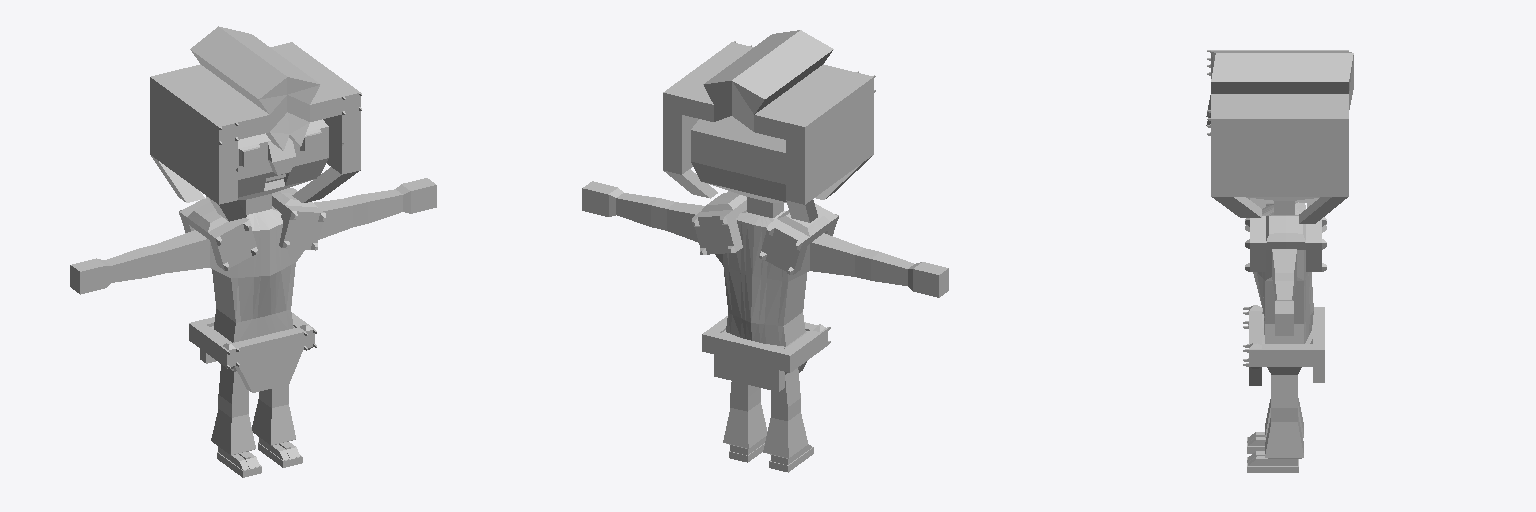
Rendered from EnemyWwep.obj.
The picture shows the model from 3 angles: view 1: azimuth 30°, elevation 25°; view 2: azimuth 150°, elevation 25°; view 3: azimuth 270°, elevation 25°; orthographic projection.
Parts seen in each view (by area): view 1: Enemy_Cube, Helmet_Cube.002, LoinArmor_Cube.005, Shoulder_pads_Cube.004, Eyes_Cube.009; view 2: Enemy_Cube, Helmet_Cube.002, Shoulder_pads_Cube.004, LoinArmor_Cube.005; view 3: Helmet_Cube.002, Enemy_Cube, Shoulder_pads_Cube.004, LoinArmor_Cube.005.
Part boxes in pixels (left/top/right/bottom): Enemy_Cube: left=70, top=119, right=436, bottom=470; Helmet_Cube.002: left=150, top=26, right=361, bottom=221; LoinArmor_Cube.005: left=189, top=313, right=316, bottom=392; Shoulder_pads_Cube.004: left=179, top=188, right=325, bottom=270; Eyes_Cube.009: left=242, top=132, right=321, bottom=166; Enemy_Cube: left=582, top=116, right=948, bottom=464; Helmet_Cube.002: left=663, top=30, right=875, bottom=222; Shoulder_pads_Cube.004: left=692, top=191, right=838, bottom=274; LoinArmor_Cube.005: left=702, top=316, right=830, bottom=391; Helmet_Cube.002: left=1206, top=50, right=1353, bottom=223; Enemy_Cube: left=1247, top=197, right=1319, bottom=465; Shoulder_pads_Cube.004: left=1245, top=197, right=1326, bottom=271; LoinArmor_Cube.005: left=1243, top=305, right=1324, bottom=385.
Size of the model in its own units: 1.8 by 1.96 by 0.6458.